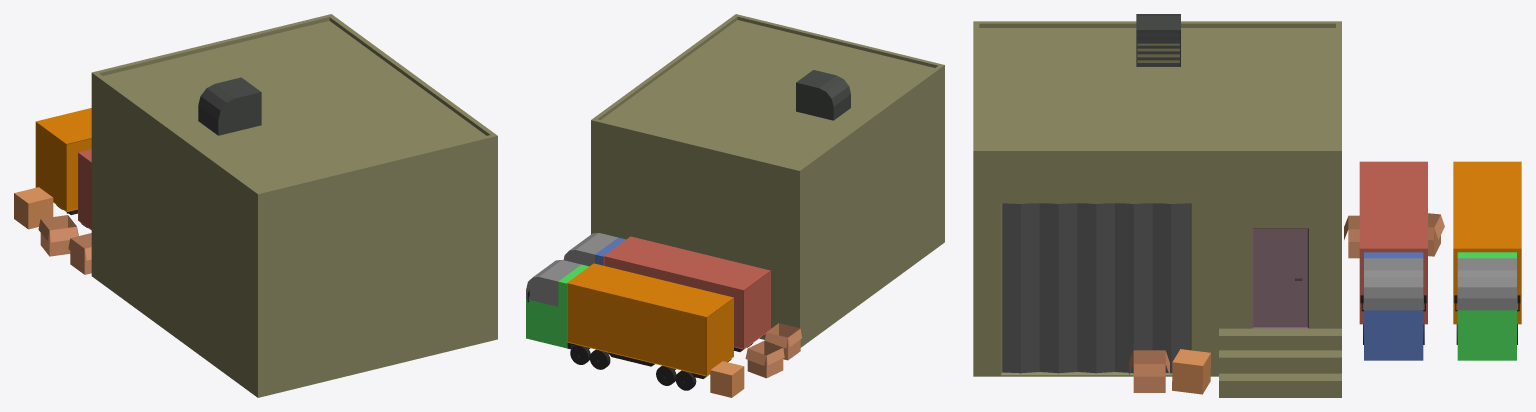
The model's file is building_2.gltf.
3 views of the same model, side by side, from view 1: azimuth 30°, elevation 25°; view 2: azimuth 150°, elevation 25°; view 3: azimuth 270°, elevation 25° (orthographic). The views are drawn at different scales.
Visible parts, largest first — view 1: Building, truck cargo.001, Air vent, box closed, box open.002, truck cargo, box open.001; view 2: Building, truck cargo.001, truck cargo, Air vent, truck base.001, truck windshield.001, Wheels.001, box open.002, box closed, truck windshield, box open.001; view 3: Building, front garage panel, truck cargo.001, truck cargo, Door, truck base, truck base.001, truck windshield, truck windshield.001, Air vent, box closed.001, box open (+2 smaller).
Part boxes in pixels (x1,y1,x2,y2): Building: (91, 14, 497, 397); truck cargo.001: (35, 108, 91, 211); Air vent: (198, 77, 261, 135); box closed: (14, 187, 53, 229); box open.002: (38, 215, 78, 256); truck cargo: (78, 149, 91, 229); box open.001: (68, 233, 91, 274); Building: (591, 14, 944, 347); truck cargo.001: (567, 263, 733, 376); truck cargo: (603, 236, 770, 349); Air vent: (796, 70, 850, 120); truck base.001: (526, 264, 589, 348); truck windshield.001: (526, 260, 581, 306); Wheels.001: (570, 345, 696, 390); box open.002: (745, 340, 785, 378); box closed: (710, 361, 744, 397); truck windshield: (563, 233, 617, 266); box open.001: (765, 323, 802, 360); Building: (973, 21, 1341, 397); front garage panel: (1002, 203, 1190, 373); truck cargo.001: (1453, 161, 1521, 324); truck cargo: (1359, 161, 1427, 324); Door: (1252, 228, 1308, 328); truck base: (1364, 252, 1423, 360); truck base.001: (1457, 252, 1516, 360); truck windshield: (1364, 258, 1423, 310); truck windshield.001: (1457, 258, 1516, 310); Air vent: (1136, 14, 1180, 66); box closed.001: (1172, 349, 1210, 394); box open: (1129, 350, 1169, 392).
Size of the model in its own units: 9.35 by 7.2 by 13.69.
